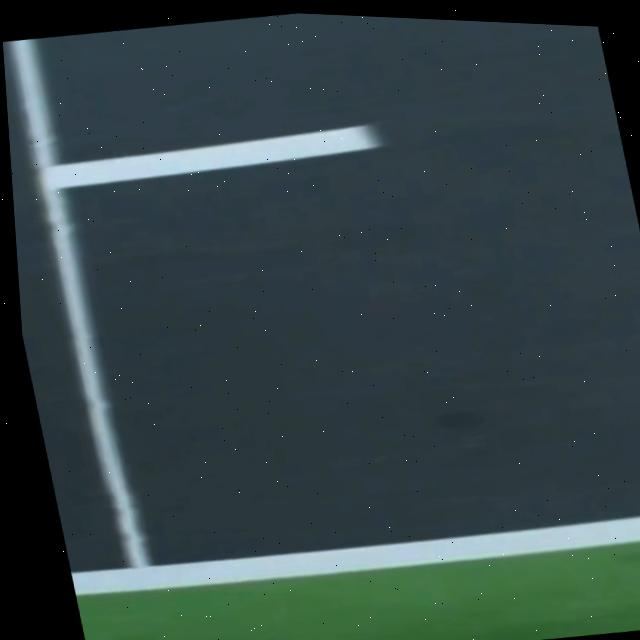center: (43, 125, 382, 189)
right: (70, 516, 640, 595)
